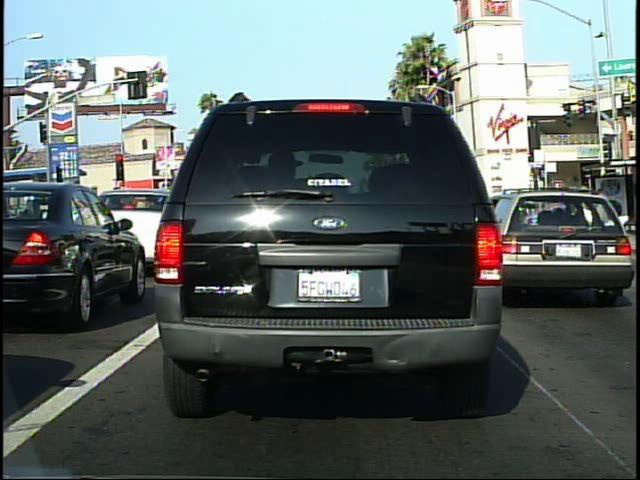person: (590, 184, 618, 241), (564, 183, 585, 238)
